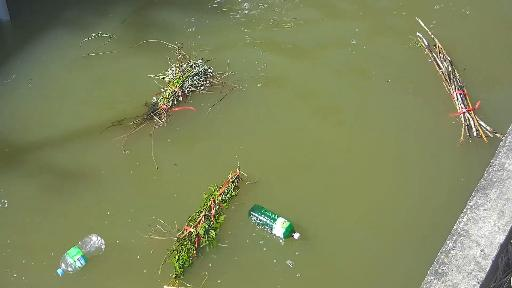plastic: (43, 227, 107, 274), (259, 210, 289, 236)
twig: (69, 2, 253, 146), (141, 154, 251, 286), (405, 18, 495, 133)
